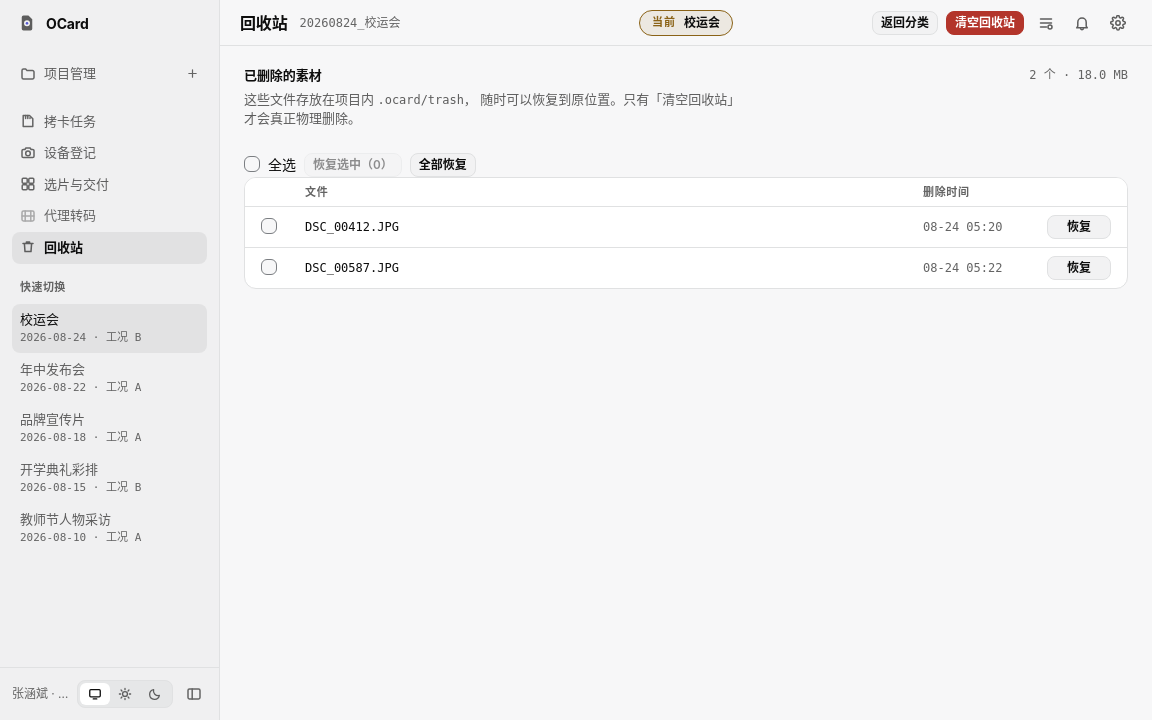
Test: 回收站 › #4 清空有失败时可见提示「已保留可重试」(统一走 toast)
Click the button with test id "trash-empty" at (985, 22), box [946,10,1024,34]
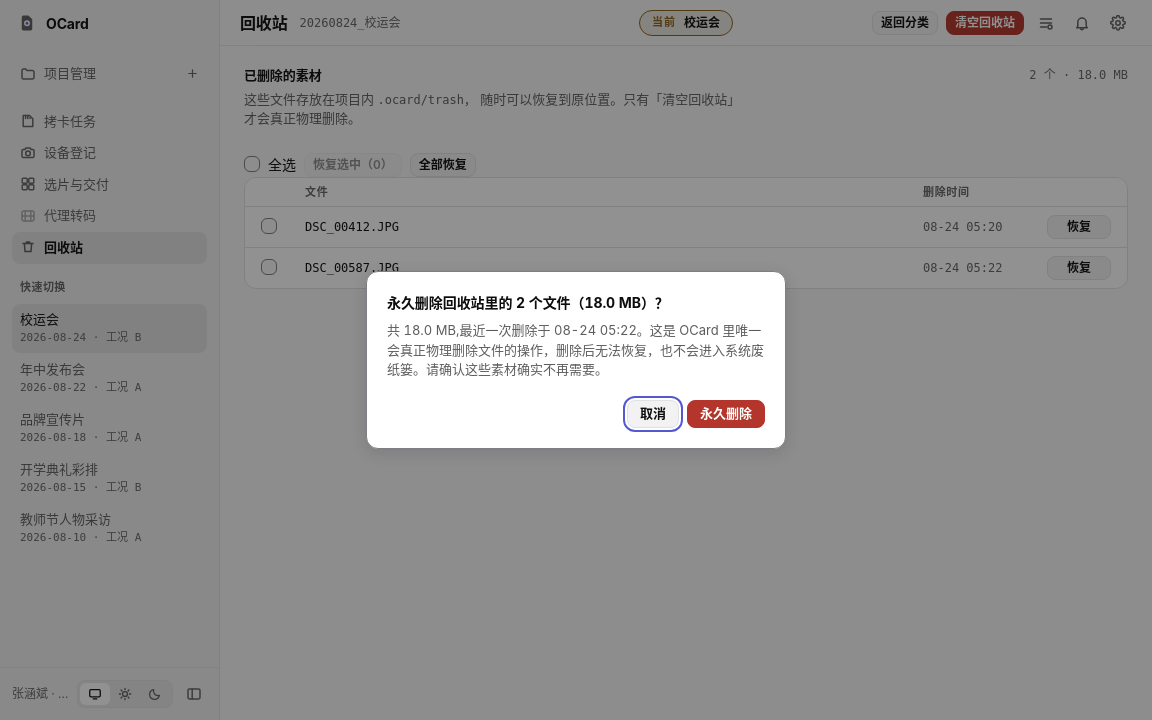
Click the button "永久删除" at (726, 414), box [687,400,765,428]
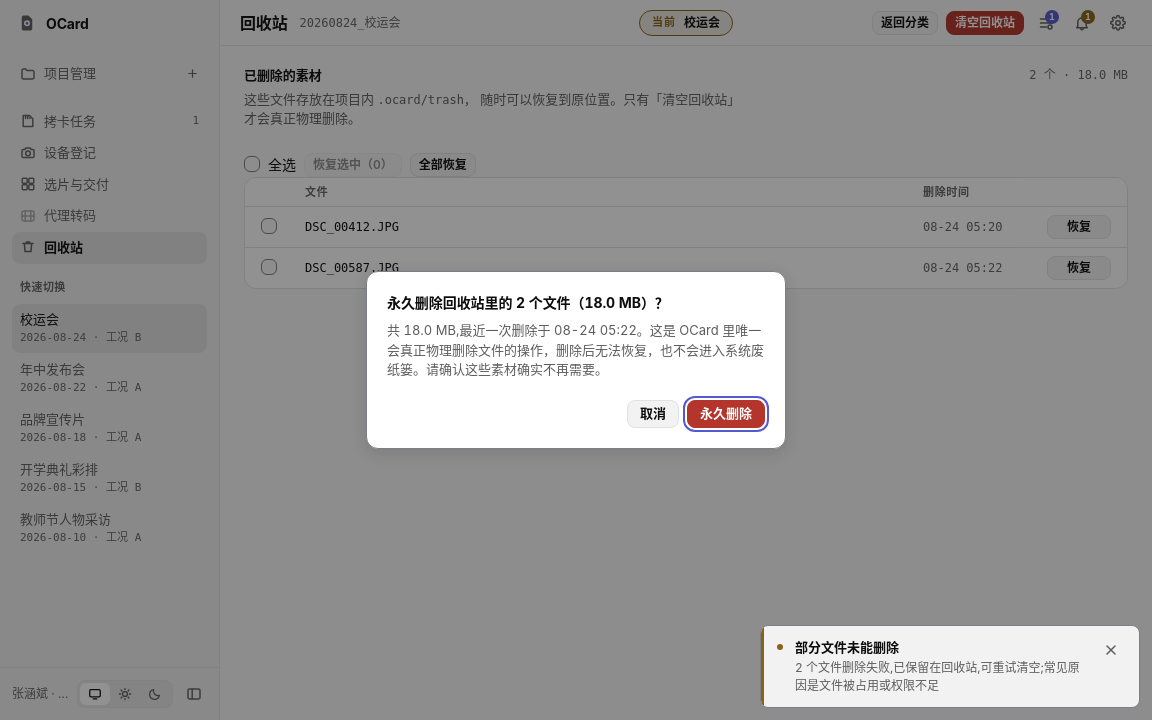
Now the message with test id "notice-toast-warning" shows "2 个文件删除失败", box [795,660,1080,693]
Now the message with test id "notice-toast-warning" shows "已保留在回收站", box [795,660,1080,693]
